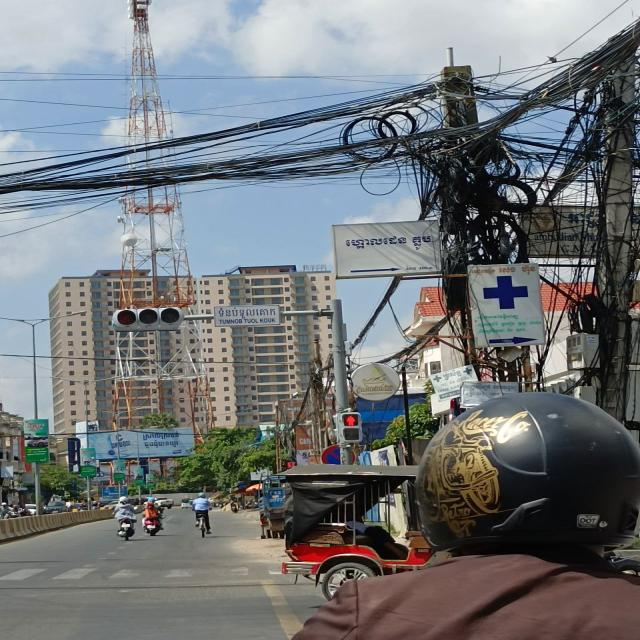Yolov11kh: (343, 233, 433, 252), (215, 306, 279, 319), (498, 264, 537, 275), (141, 430, 181, 440), (142, 440, 179, 450)
